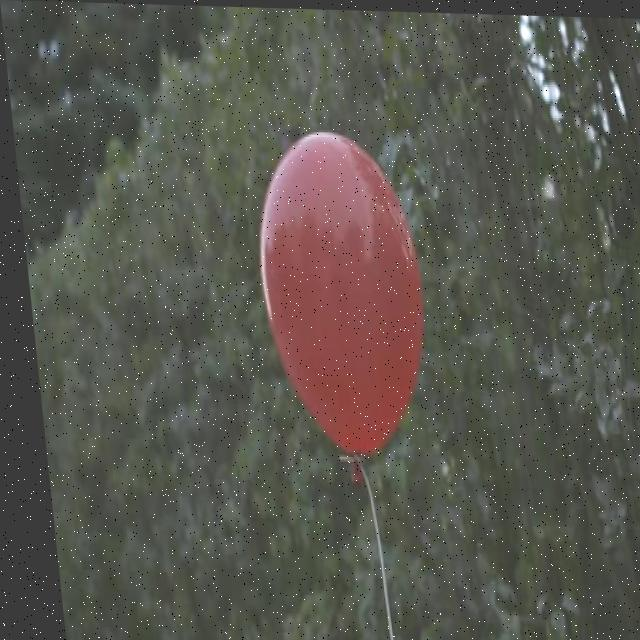balloon: (235, 112, 439, 477)
